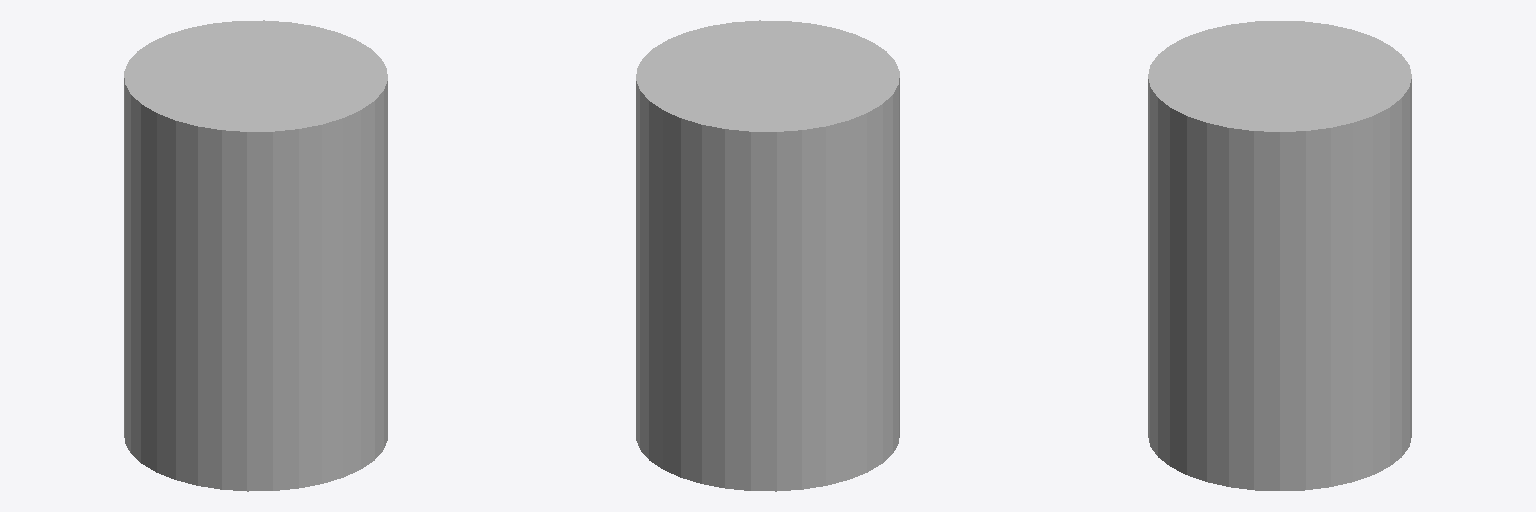
robot.urdf — can:
<robot name="can">
    <link name="can_body">
        <visual>
            <geometry>
                <cylinder radius="0.05" length="0.15" />
            </geometry>
            <material name="metallic_silver">
                <color rgba="0.8 0.8 0.8 1.0" />
            </material>
        </visual>

        <collision>
            <geometry>
                <cylinder radius="0.05" length="0.15" />
            </geometry>
        </collision>

        <!-- Inertial properties -->
        <inertial>
            <mass value="0.2" /> <!-- mass in kg -->
            <origin xyz="0 0 0.075" /> <!-- Position of the center of mass -->
            <inertia
                ixx="0.0003"
                iyy="0.0003"
                izz="0.00015"
                ixy="0.0"
                ixz="0.0"
                iyz="0.0" />
        </inertial>
    </link>

    <!-- Gazebo-specific static tag -->
    <gazebo>
        <static>true</static>
    </gazebo>
</robot>

--- Facts derived from the render (not from the file) ---
3 views of the same robot in one strip: view 1: azimuth 30°, elevation 25°; view 2: azimuth 150°, elevation 25°; view 3: azimuth 270°, elevation 25° (orthographic).
Model can with 1 links and 0 joints (none), rooted at can_body, posed all joints at 0.
Visible links, largest first — view 1: can_body; view 2: can_body; view 3: can_body.
Boxes of the visible links, bbox=[...] form: can_body: bbox=[124, 20, 387, 491]; can_body: bbox=[636, 20, 899, 491]; can_body: bbox=[1148, 21, 1411, 490].
Size in the robot's own frame: 0.1 by 0.1 by 0.15 metres.
Geometry: primitives only (box / cylinder / sphere), no mesh files.
